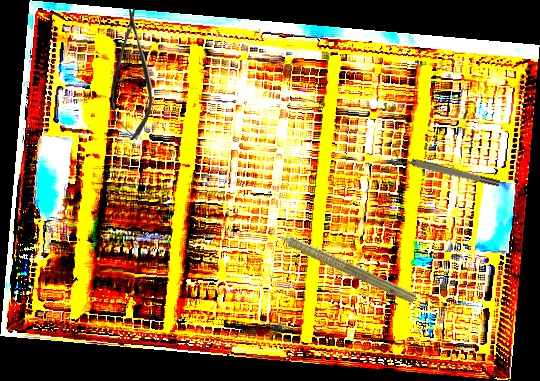Fixation Ring: (389, 149, 502, 194)
Handpiece: (259, 217, 420, 307)
Micro Scissor: (111, 8, 152, 140)
